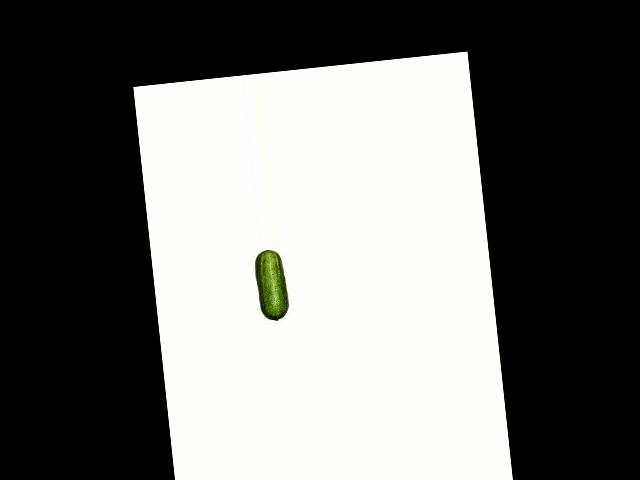cucumber: (253, 248, 289, 322)
